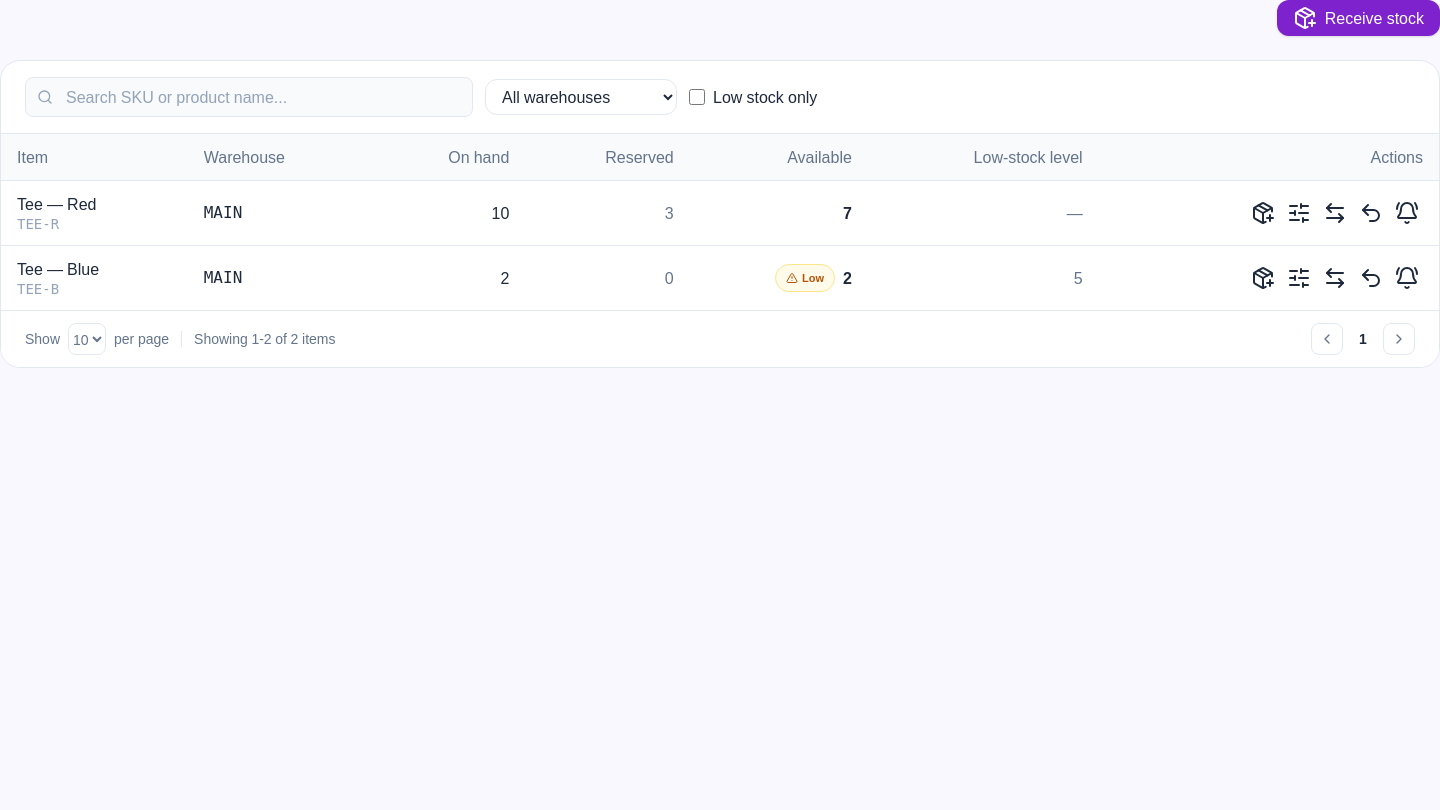
Test: StockLevels › ປຸ່ມຕໍ່ແຖວ ເປີດ dialog ຕາມປະເພດ (receive/adjust/transfer/return) ແລະ ຕັ້ງເກນ
What coordinates should you click on to do the following:
click the button named "Adjust TEE-R"
I would click on:
 (1299, 213)
Its box is [1283,197,1315,229].
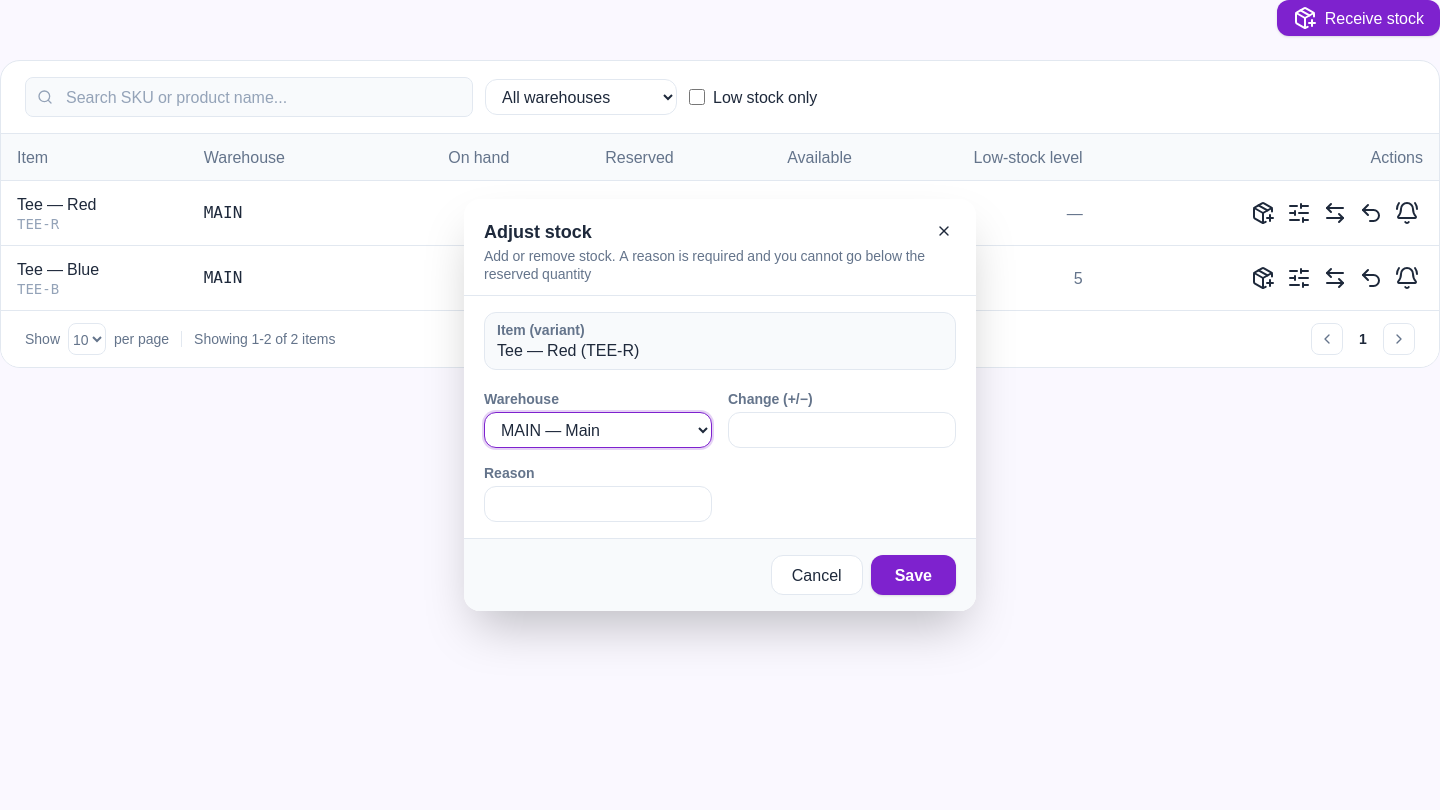
Check: the heading "Adjust stock" is shown, box [484,217,592,246]
What coordinates should you click on to do the following:
click the button "Cancel"
I would click on:
 (817, 575)
Its box is [771,555,863,595].
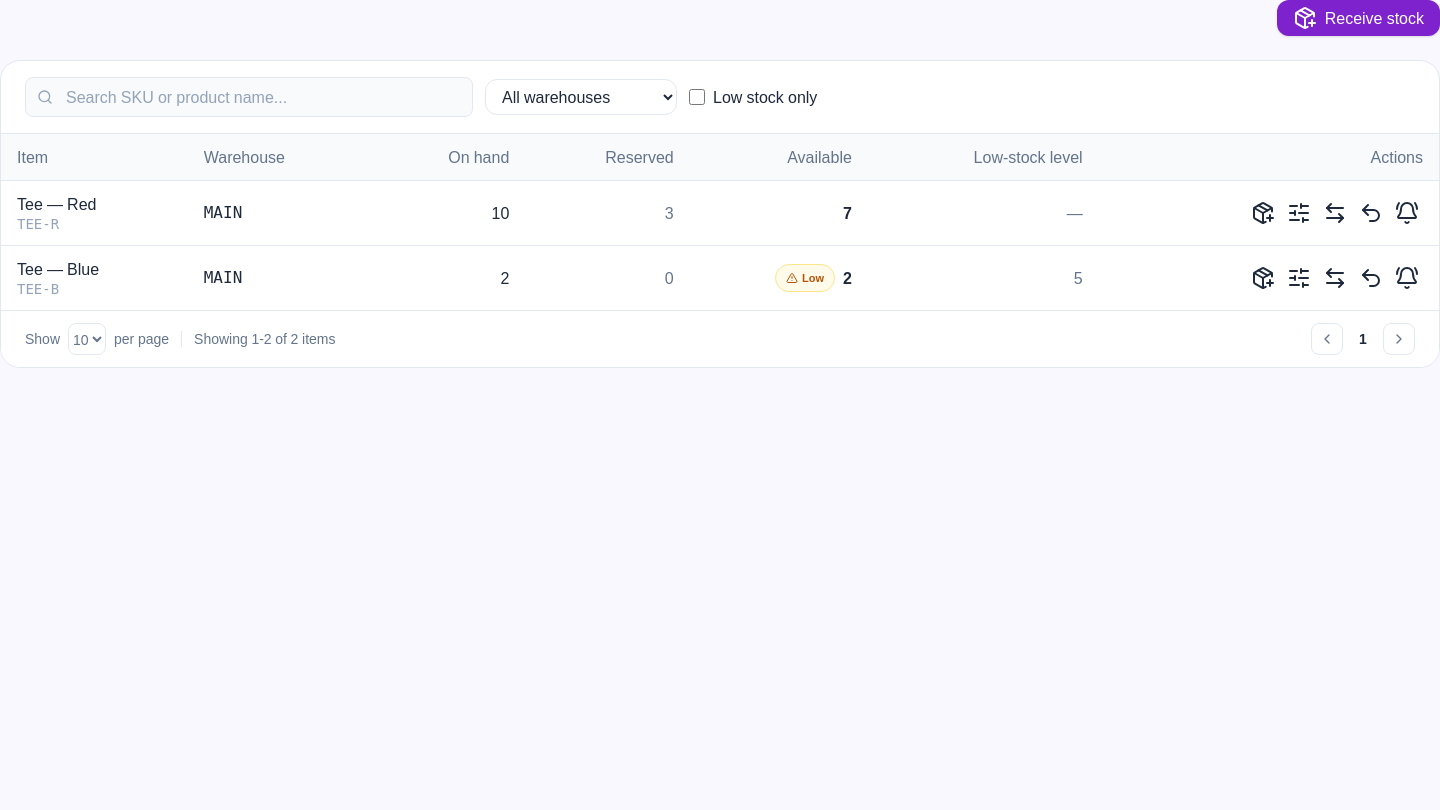
What coordinates should you click on to do the following:
click the button named "Set low-stock level TEE-R"
I would click on:
 (1407, 213)
Its box is [1391,197,1423,229].
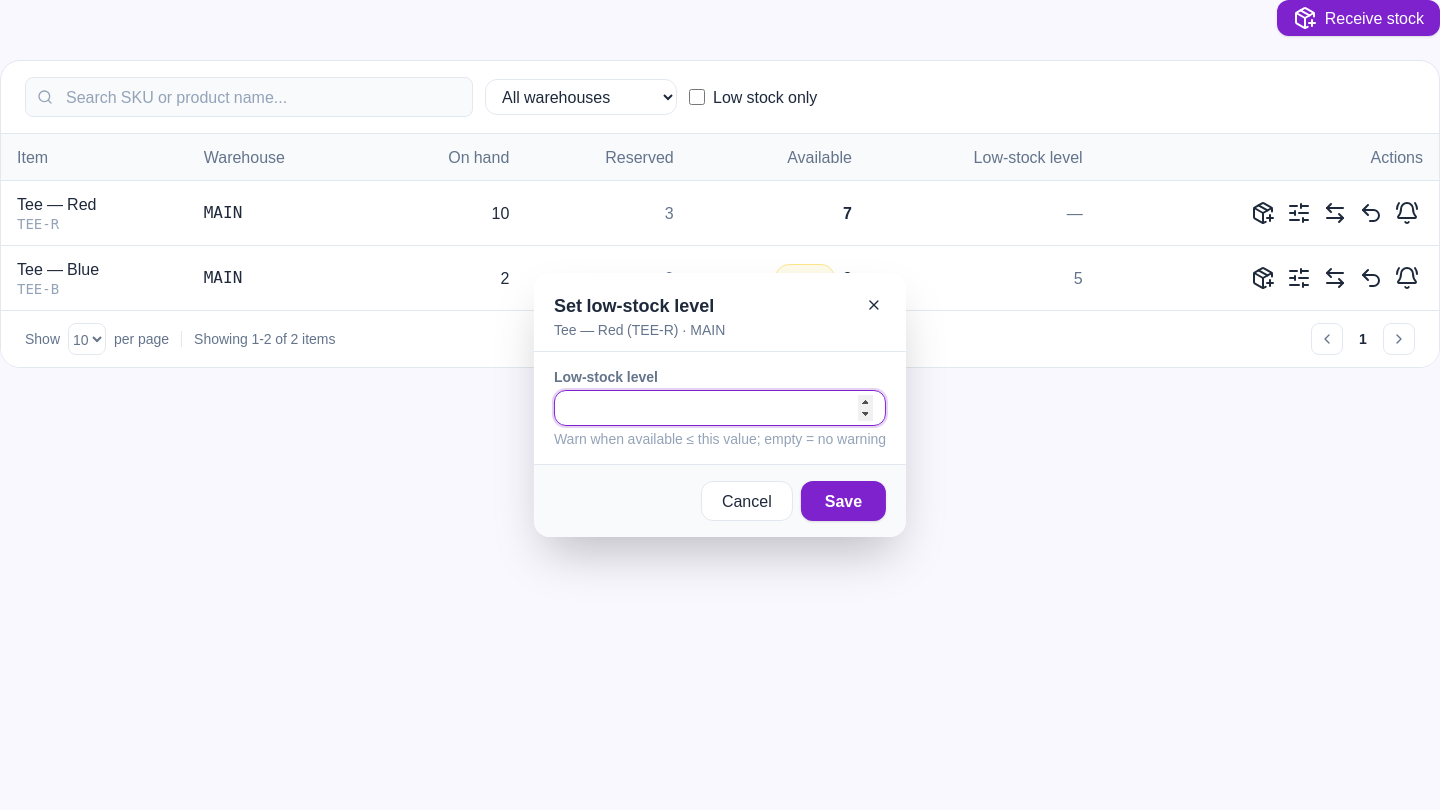
Check: the number field labelled "Low-stock level" is shown, box [554,390,886,426]
